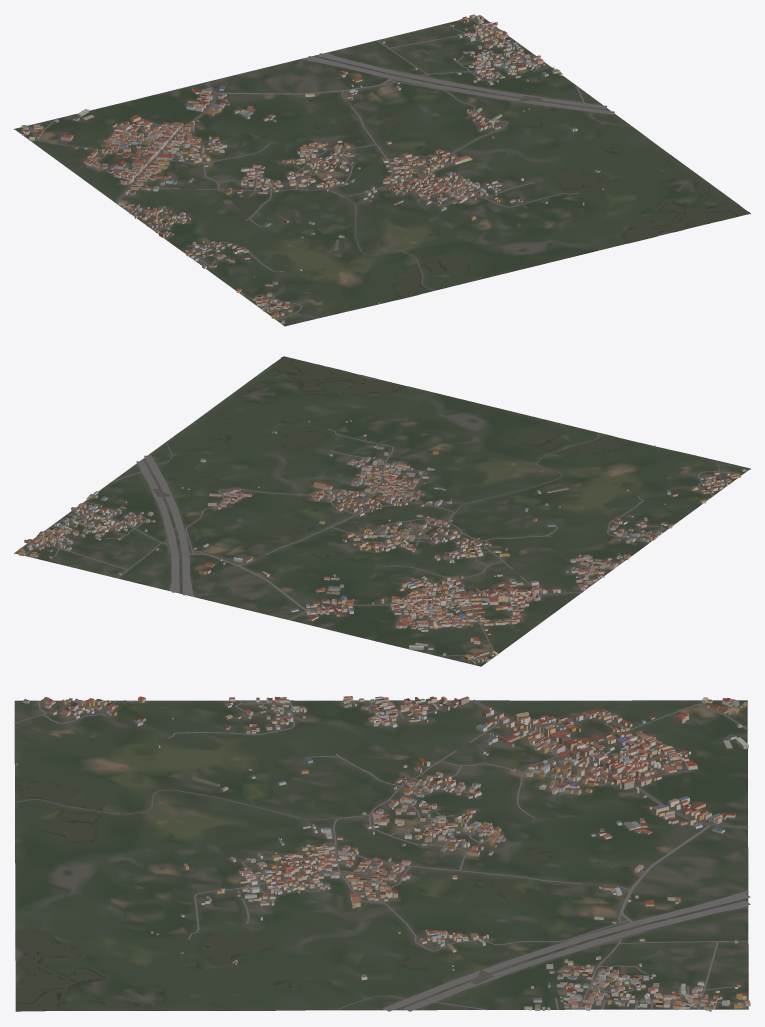
The picture shows the model from 3 angles, top to bottom: view 1: azimuth 30°, elevation 25°; view 2: azimuth 150°, elevation 25°; view 3: azimuth 270°, elevation 25°; orthographic projection. The views are drawn at different scales.
Visible parts, largest first — view 1: ground, buildings, roads, water; view 2: ground, buildings, roads, water; view 3: ground, buildings, roads, water.
Part boxes in pixels (left/top/right/bottom): ground: left=14, top=17, right=750, bottom=326; buildings: left=21, top=14, right=603, bottom=323; roads: left=29, top=17, right=632, bottom=319; water: left=309, top=91, right=749, bottom=299; ground: left=14, top=356, right=750, bottom=666; buildings: left=18, top=420, right=747, bottom=664; roads: left=15, top=429, right=741, bottom=661; water: left=196, top=356, right=635, bottom=570; ground: left=14, top=700, right=748, bottom=1011; buildings: left=16, top=696, right=750, bottom=1011; roads: left=14, top=699, right=750, bottom=1011; water: left=15, top=777, right=611, bottom=1011.
Size of the model in its own units: 1412 by 23.19 by 1409.
